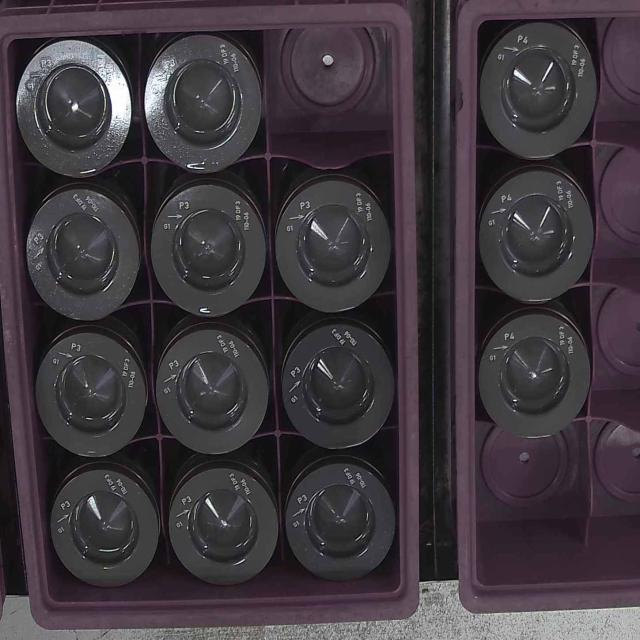P3: (145, 37, 261, 173), (148, 180, 262, 318), (22, 187, 140, 316), (276, 177, 388, 311), (34, 330, 144, 456), (20, 44, 126, 173), (158, 330, 271, 451), (49, 467, 160, 588), (283, 325, 389, 450), (170, 464, 279, 585), (287, 461, 393, 585)
P4: (482, 25, 594, 159), (483, 173, 589, 301), (482, 314, 586, 435)
